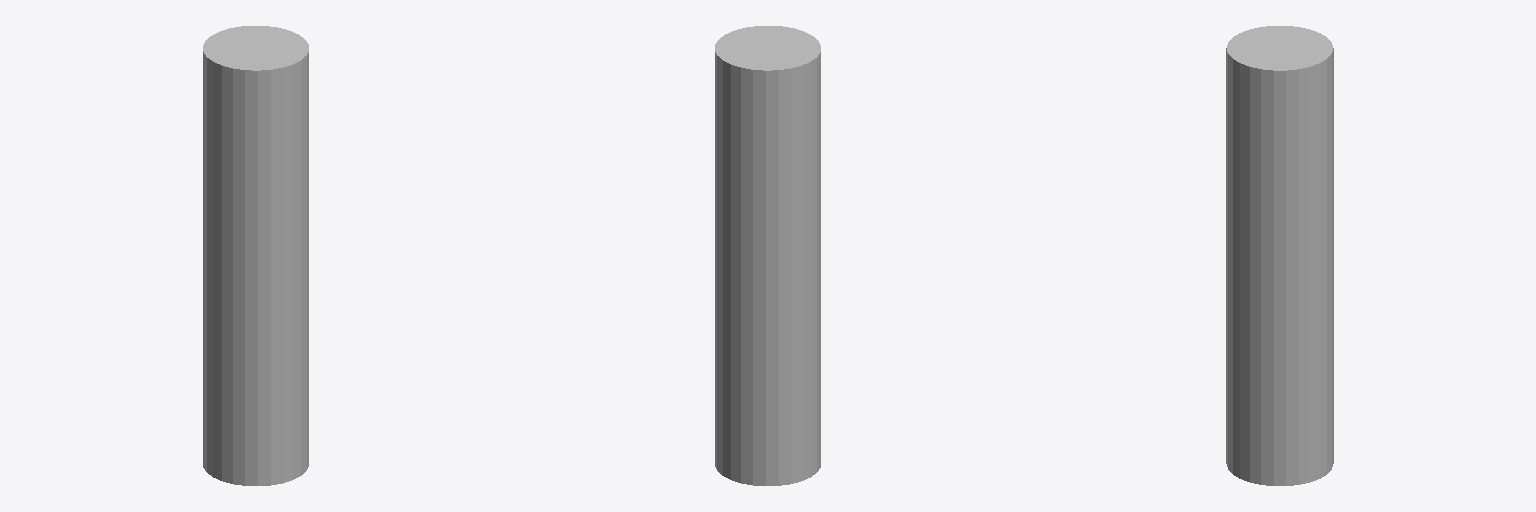
The model's file is балка.obj.
3 views of the same model, side by side, from view 1: azimuth 30°, elevation 25°; view 2: azimuth 150°, elevation 25°; view 3: azimuth 270°, elevation 25° (orthographic).
Parts seen in each view (by area): view 1: Цилиндр; view 2: Цилиндр; view 3: Цилиндр.
Part boxes in pixels (x1,y1,x2,y2): Цилиндр: (203,26,308,485); Цилиндр: (715,26,820,485); Цилиндр: (1226,26,1333,485).
Bounding box in the file's own units: 1.99 × 8.57 × 2.